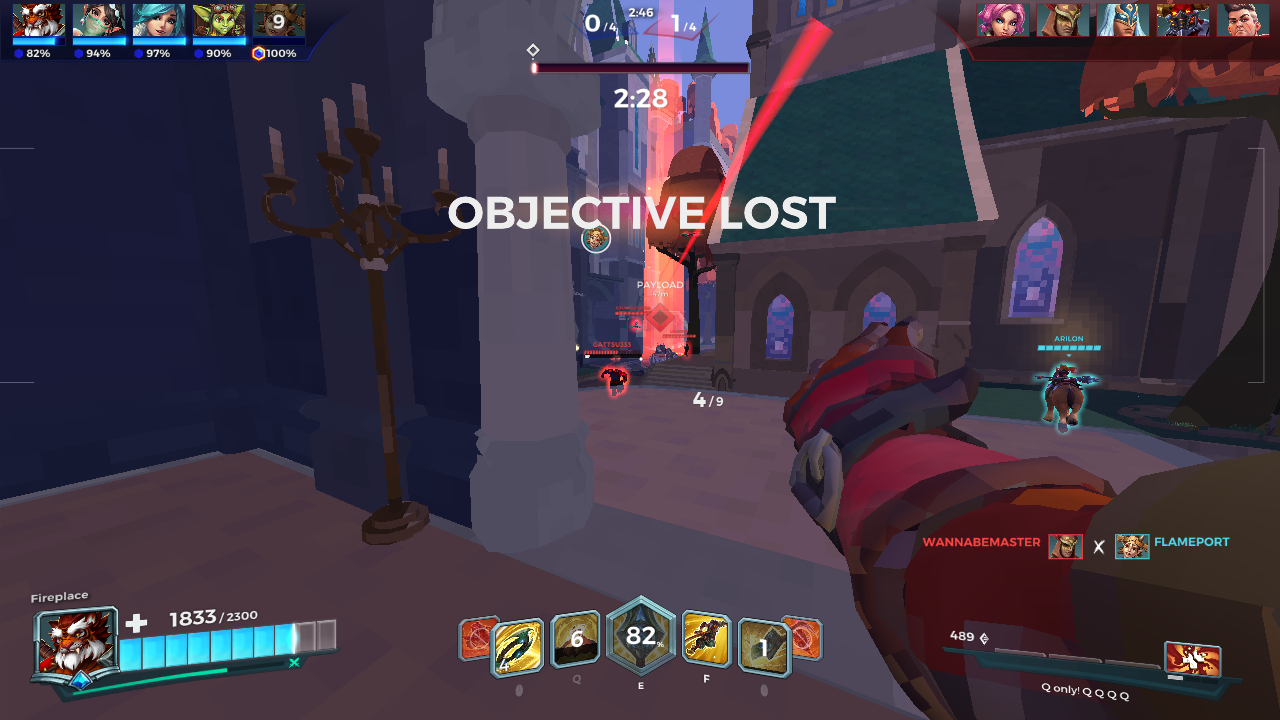model: (598, 363, 638, 401), (679, 341, 693, 359), (630, 316, 639, 336)
